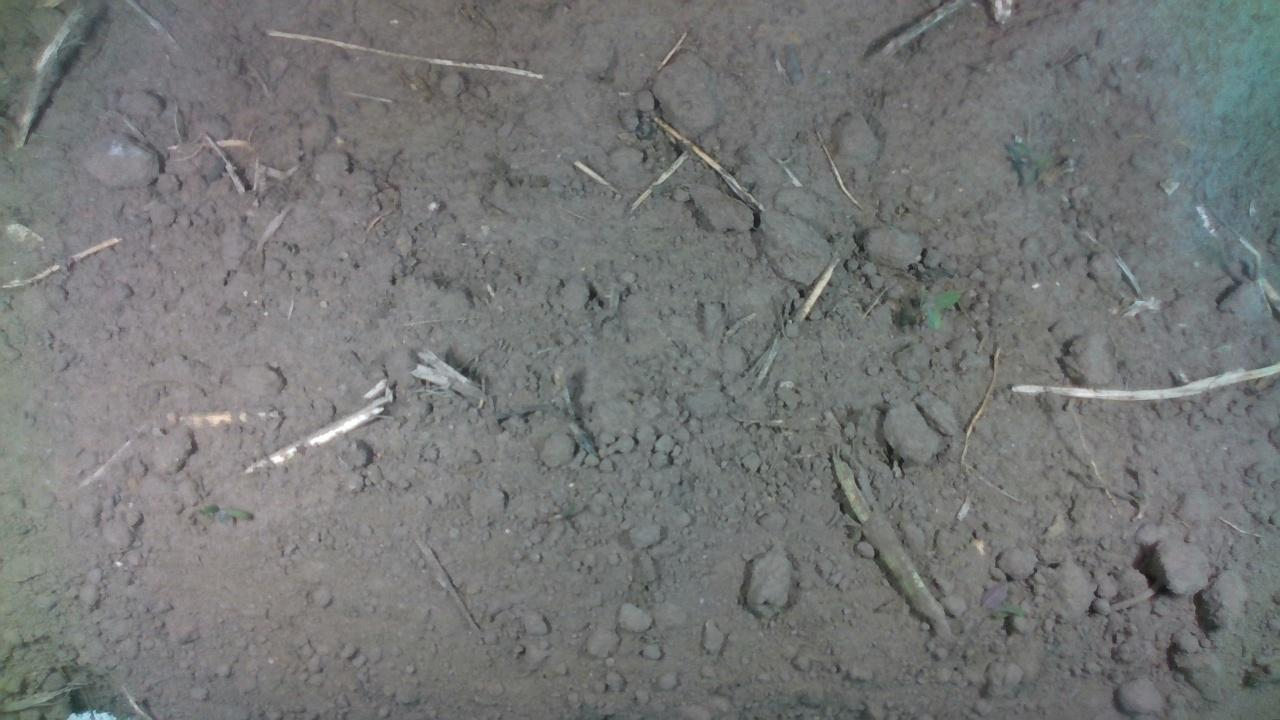weed: (199, 501, 253, 521)
